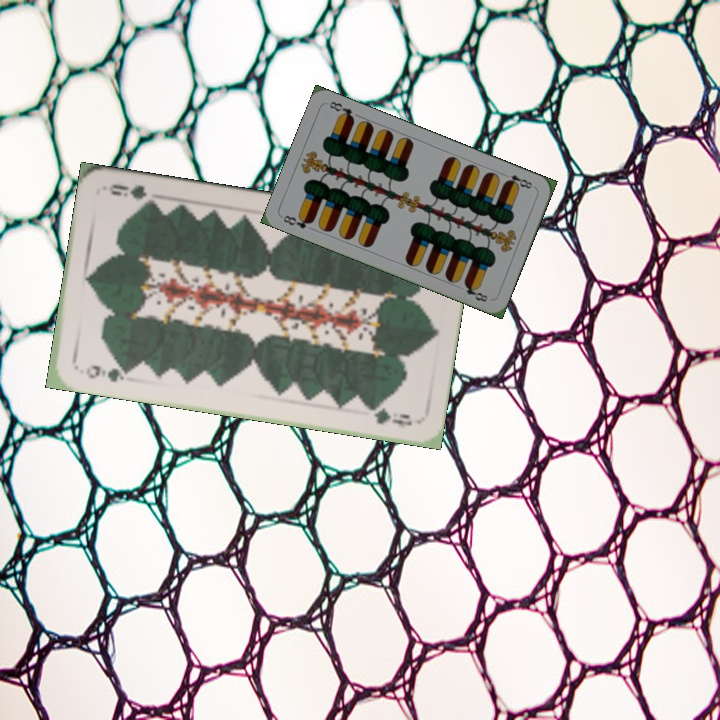E8: (499, 169, 537, 192), (279, 211, 316, 231)
G9: (82, 361, 133, 385)
